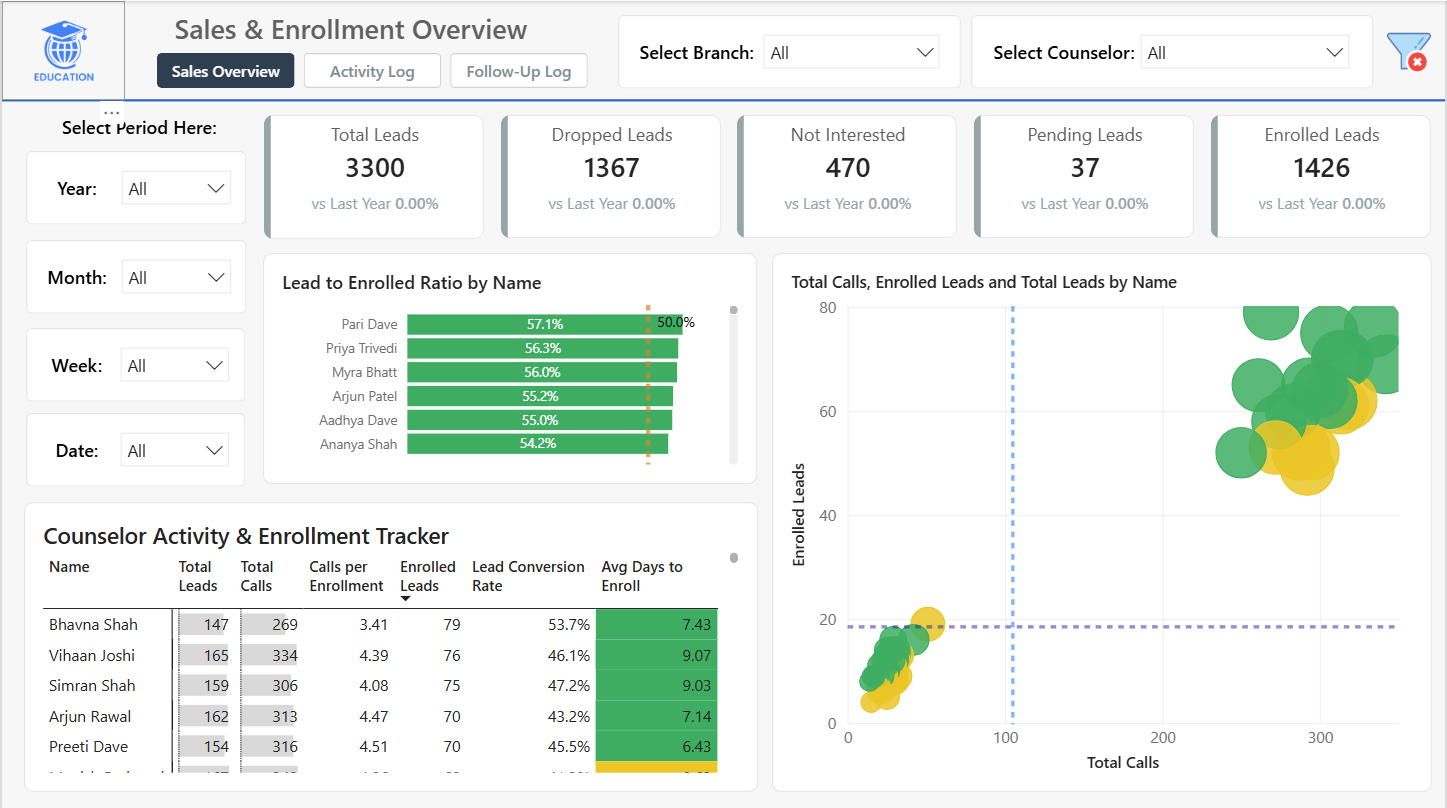

Layout of this report page (visuals, bound fields, positions):
{"tool":"powerbi","page":{"name":"Sales Overview","canvas":[1280,720],"ordinal":0},"visuals":[{"type":"shape","box":[0.3,38,1280,99.9],"z":0},{"type":"cardVisual","fields":{"Data":["Key Measures.Total Leads"]},"box":[232.3,101.1,195,110.3],"z":1000},{"type":"group","id":"g1","title":"Group 1","box":[545.8,12.4,304.1,65.6],"z":2000},{"type":"group","id":"g2","title":"Group 1","box":[858.8,12.4,356.5,65.6],"z":3000},{"type":"group","id":"g3","title":"Group 1","box":[21,133.1,195.1,65],"z":4000},{"type":"image","box":[1227.7,20.9,39.5,47.6],"z":5000},{"type":"shape","box":[545.8,12.4,304,65.3],"z":5500,"group":"g1"},{"type":"shape","box":[858.8,12.4,356.6,65.3],"z":5500,"group":"g2"},{"type":"shape","box":[21,133.1,195.2,65.3],"z":5500,"group":"g3"},{"type":"shape","box":[21,212.1,195.5,65.3],"z":5500,"group":"g4"},{"type":"shape","box":[21,289.9,194.3,65.3],"z":5500,"group":"g5"},{"type":"shape","box":[21,365.4,194.3,65.3],"z":5500,"group":"g6"},{"type":"slicer","fields":{"Values":["dim_branches_master.Branch_Name"]},"box":[669.7,24.9,166.4,41.7],"z":6000,"group":"g1"},{"type":"slicer","fields":{"Values":["dim_staff_master.Name"]},"box":[1004.1,24.9,195.2,41.7],"z":6000,"group":"g2"},{"type":"cardVisual","fields":{"Data":["Key Measures.Dropped Leads"]},"box":[442.2,101.1,195,109.2],"z":6000},{"type":"slicer","fields":{"Values":["dim_year_slicer.Year"]},"box":[100.5,145.6,106.8,41.7],"z":6000,"group":"g3"},{"type":"slicer","fields":{"Values":["dim_date_2024_2025.Month Year"]},"box":[100.6,224.6,107,41.7],"z":6000,"group":"g4"},{"type":"slicer","fields":{"Values":["dim_date_2024_2025.Monthly Week"]},"box":[100.2,302.4,106.4,41.7],"z":6000,"group":"g5"},{"type":"slicer","fields":{"Values":["dim_date_2024_2025.Date"]},"box":[100.2,377.9,106.4,41.7],"z":6000,"group":"g6"},{"type":"cardVisual","fields":{"Data":["Key Measures.Pending Leads"]},"box":[862,101.1,195,109.2],"z":7000},{"type":"cardVisual","fields":{"Data":["Key Measures.Not Interested"]},"box":[652.1,101.1,195,109.2],"z":8000},{"type":"textbox","box":[562.1,34.6,107.6,20.8],"z":9000,"group":"g1"},{"type":"textbox","box":[877.9,34.6,126.2,20.8],"z":9000,"group":"g2"},{"type":"cardVisual","fields":{"Data":["Key Measures.Enrolled Leads"]},"box":[1071.9,101.1,195,109.2],"z":9000},{"type":"textbox","box":[31.4,155.3,69.1,20.8],"z":9000,"group":"g3"},{"type":"textbox","box":[31.5,234.3,69.2,20.8],"z":9000,"group":"g4"},{"type":"textbox","box":[31.4,312.1,68.8,20.8],"z":9000,"group":"g5"},{"type":"textbox","box":[31.4,387.6,68.8,20.8],"z":9000,"group":"g6"},{"type":"group","id":"g4","title":"Group 1","box":[21,212.1,195.1,66.2],"z":10000},{"type":"group","id":"g5","title":"Group 1","box":[21,289.9,195.1,66.2],"z":11000},{"type":"group","id":"g6","title":"Group 1","box":[21,365.4,195.1,66.2],"z":12000},{"type":"clusteredBarChart","fields":{"Category":["dim_staff_master.Name"],"Y":["Key Measures.Lead to Enrolled Ratio"]},"box":[231.8,223.7,438.4,204.6],"z":13000},{"type":"pivotTable","title":"Counselor Activity & Enrollment Tracker","fields":{"Rows":["dim_staff_master.Name"],"Values":["Key Measures.Total Leads","Key Measures.Total Calls","Key Measures.Calls per Enrollment","Key Measures.Enrolled Leads","Key Measures.Call Conversion Rate","Key Measures.Avg Days to Enroll"]},"box":[19.1,444.5,651.1,257],"z":14000},{"type":"textbox","box":[53.4,101.1,145.2,27.9],"z":15000},{"type":"image","box":[0,0,109.3,88.2],"z":16000},{"type":"textbox","box":[118.9,8.1,381,34.3],"z":17000},{"type":"scatterChart","fields":{"Category":["dim_staff_master.Name"],"Size":["Key Measures.Total Leads"],"X":["Key Measures.Total Calls"],"Y":["Key Measures.Enrolled Leads"]},"box":[682.8,223.4,584.6,477.7],"z":18000},{"type":"pageNavigator","box":[137.4,46.1,383.9,31.9],"z":19000}]}

Visuals, with their boxes on the page's 1280x720 design canvas (x1, y1, x2, y2). These are canvas units, not pixel positions in the 1447x808 screenshot, which may show the page scaled, cropped or inside an application window:
shape: crop(0, 38, 1280, 138)
cardVisual - Key Measures.Total Leads: crop(232, 101, 427, 211)
"Group 1" group: crop(546, 12, 850, 78)
"Group 1" group: crop(859, 12, 1215, 78)
"Group 1" group: crop(21, 133, 216, 198)
image: crop(1228, 21, 1267, 68)
shape: crop(546, 12, 850, 78)
shape: crop(859, 12, 1215, 78)
shape: crop(21, 133, 216, 198)
shape: crop(21, 212, 216, 277)
shape: crop(21, 290, 215, 355)
shape: crop(21, 365, 215, 431)
slicer - dim_branches_master.Branch_Name: crop(670, 25, 836, 67)
slicer - dim_staff_master.Name: crop(1004, 25, 1199, 67)
cardVisual - Key Measures.Dropped Leads: crop(442, 101, 637, 210)
slicer - dim_year_slicer.Year: crop(100, 146, 207, 187)
slicer - dim_date_2024_2025.Month Year: crop(101, 225, 208, 266)
slicer - dim_date_2024_2025.Monthly Week: crop(100, 302, 207, 344)
slicer - dim_date_2024_2025.Date: crop(100, 378, 207, 420)
cardVisual - Key Measures.Pending Leads: crop(862, 101, 1057, 210)
cardVisual - Key Measures.Not Interested: crop(652, 101, 847, 210)
textbox: crop(562, 35, 670, 55)
textbox: crop(878, 35, 1004, 55)
cardVisual - Key Measures.Enrolled Leads: crop(1072, 101, 1267, 210)
textbox: crop(31, 155, 100, 176)
textbox: crop(32, 234, 101, 255)
textbox: crop(31, 312, 100, 333)
textbox: crop(31, 388, 100, 408)
"Group 1" group: crop(21, 212, 216, 278)
"Group 1" group: crop(21, 290, 216, 356)
"Group 1" group: crop(21, 365, 216, 432)
clusteredBarChart - dim_staff_master.Name x Key Measures.Lead to Enrolled Ratio: crop(232, 224, 670, 428)
"Counselor Activity & Enrollment Tracker" pivotTable: crop(19, 444, 670, 702)
textbox: crop(53, 101, 199, 129)
image: crop(0, 0, 109, 88)
textbox: crop(119, 8, 500, 42)
scatterChart - dim_staff_master.Name x Key Measures.Total Leads: crop(683, 223, 1267, 701)
pageNavigator: crop(137, 46, 521, 78)
